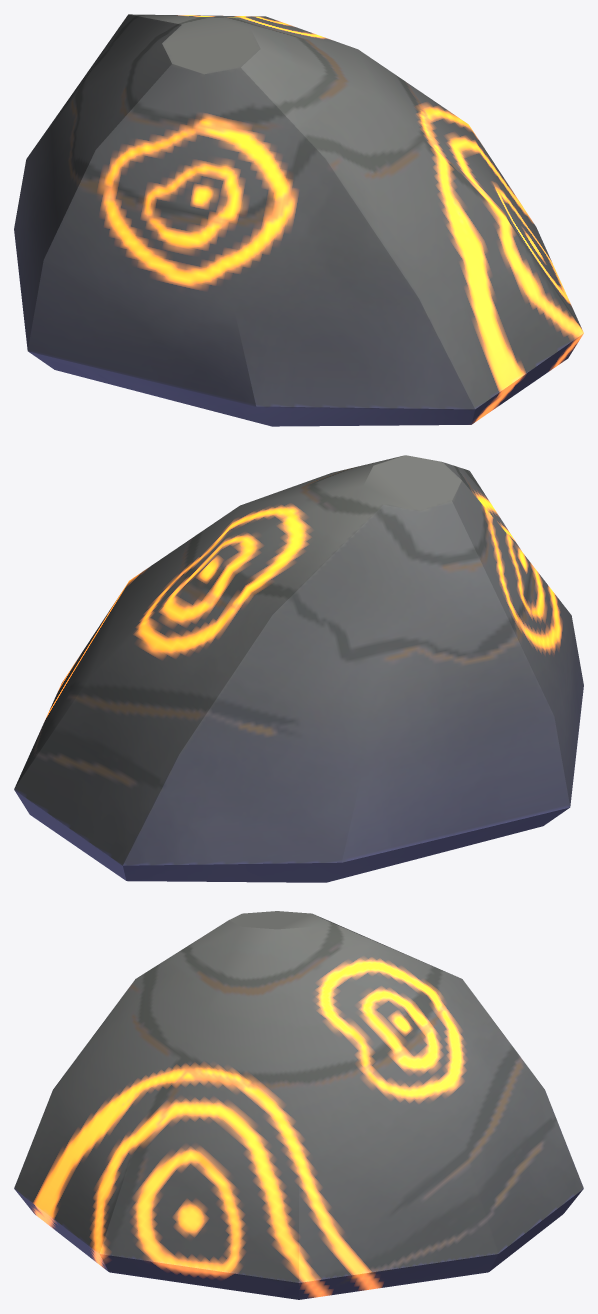
The model's file is rock_y3.fbx.
3 renders of one model, top to bottom at view 1: azimuth 30°, elevation 25°; view 2: azimuth 150°, elevation 25°; view 3: azimuth 270°, elevation 25°, orthographic. The views are drawn at different scales.
Parts seen in each view (by area): view 1: Cube.005.frozen; view 2: Cube.005.frozen; view 3: Cube.005.frozen.
Part boxes in pixels (x1,y1,x2,y2): Cube.005.frozen: (14, 14, 583, 426); Cube.005.frozen: (14, 455, 583, 882); Cube.005.frozen: (14, 911, 583, 1299).
Bounding box in the file's own units: 92.93 × 53.84 × 109.
Materials: 1 (1 with a texture image).
